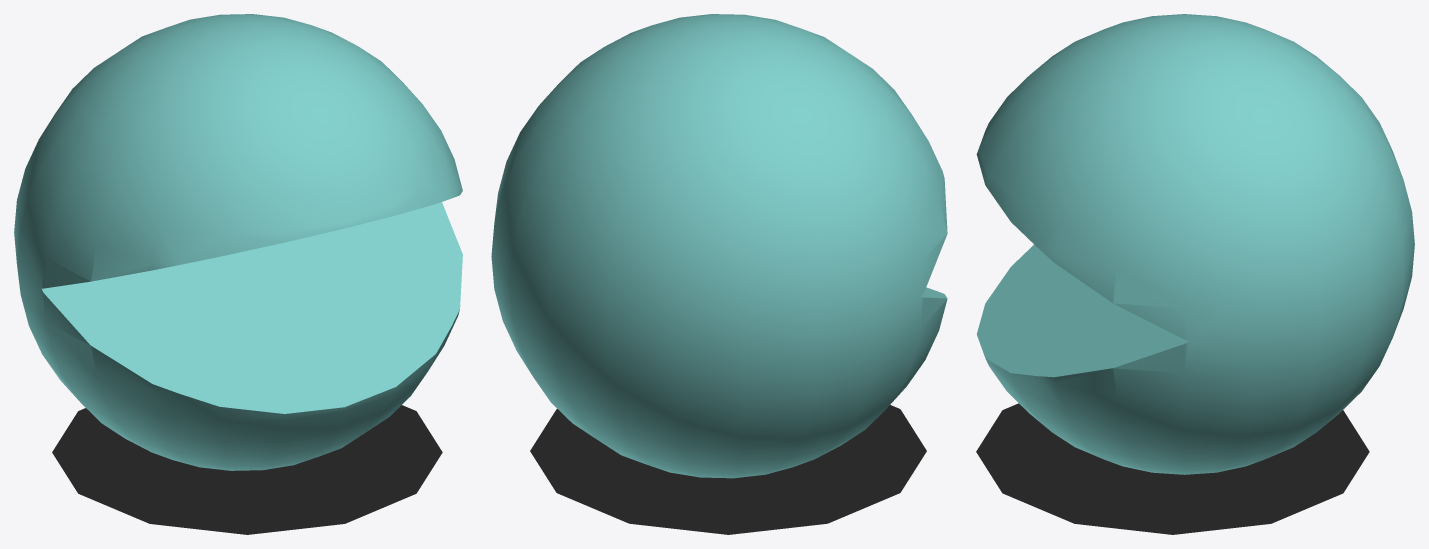
The model's file is aosuke.fbx.
3 views of the same model, side by side, from view 1: azimuth 30°, elevation 25°; view 2: azimuth 150°, elevation 25°; view 3: azimuth 270°, elevation 25° (orthographic).
Parts seen in each view (by area): view 1: pSphere2, pCylinder1; view 2: pSphere2, pCylinder1; view 3: pSphere2, pCylinder1.
Boxes of the visible parts, x1,y1,x2,y2 form: pSphere2: [14, 14, 462, 470]; pCylinder1: [52, 405, 442, 534]; pSphere2: [491, 14, 947, 478]; pCylinder1: [530, 405, 926, 534]; pSphere2: [976, 14, 1414, 474]; pCylinder1: [976, 403, 1369, 534].
Bounding box in the file's own units: 0.5995 × 0.6 × 0.571.
